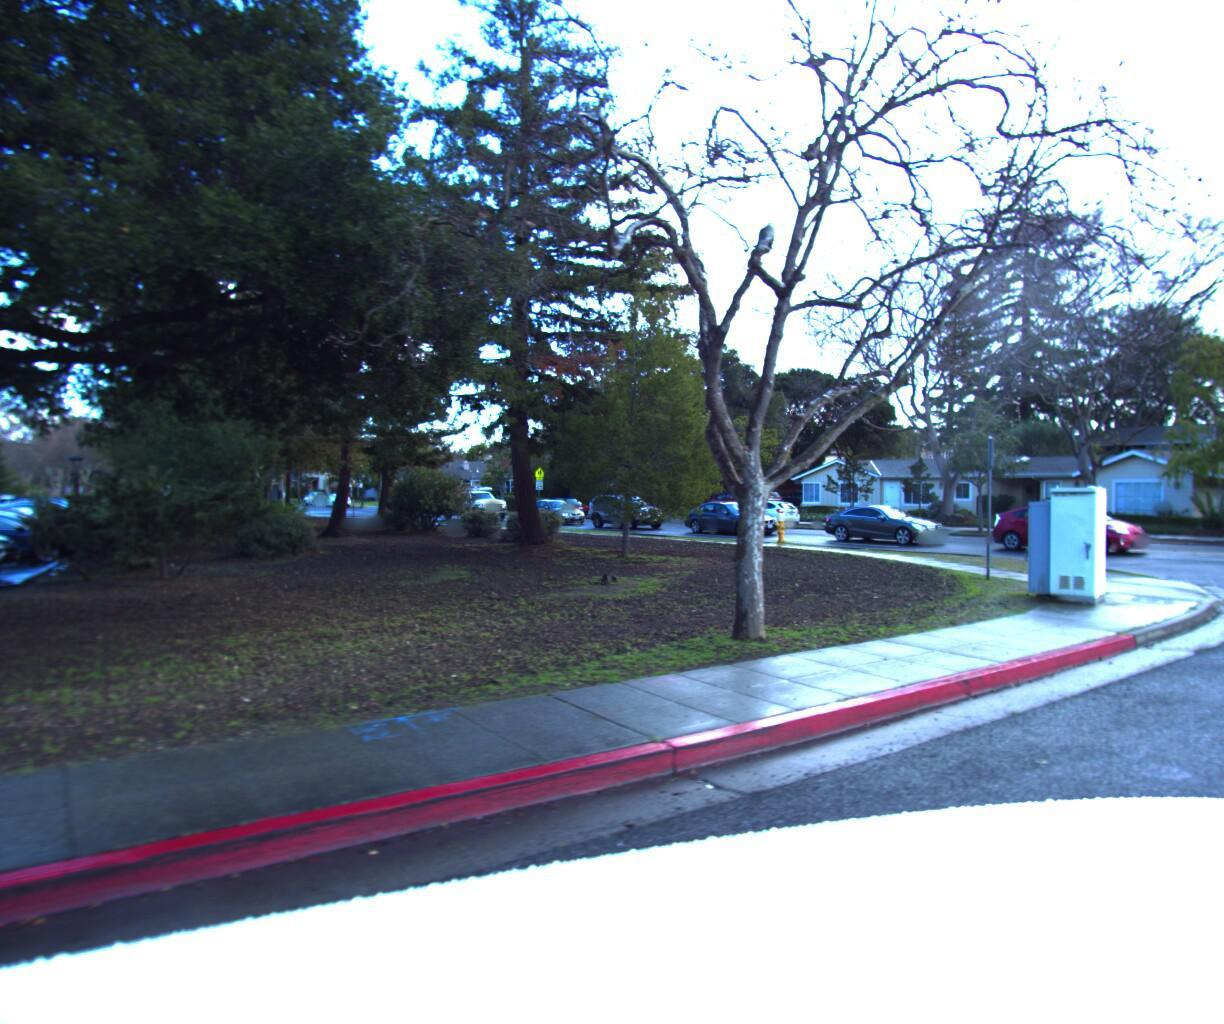car: (982, 500, 1157, 558), (819, 508, 952, 548), (682, 506, 785, 539), (433, 487, 515, 523), (719, 502, 804, 533), (523, 499, 592, 526)
